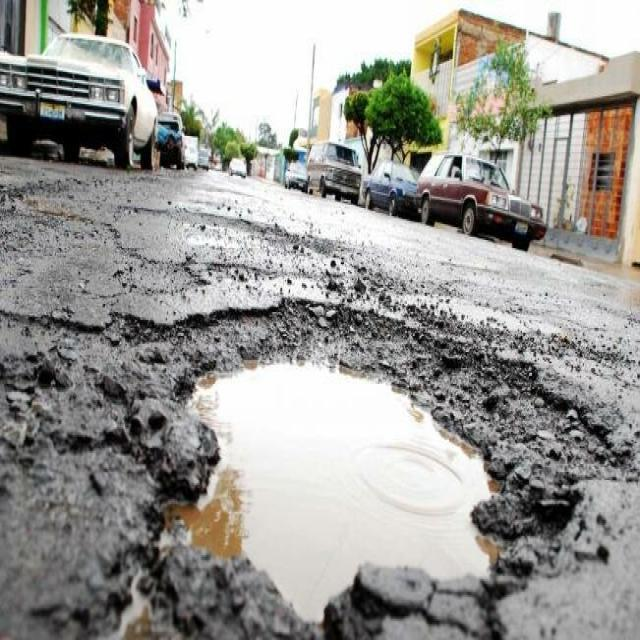Pothole: (56, 285, 623, 640)
